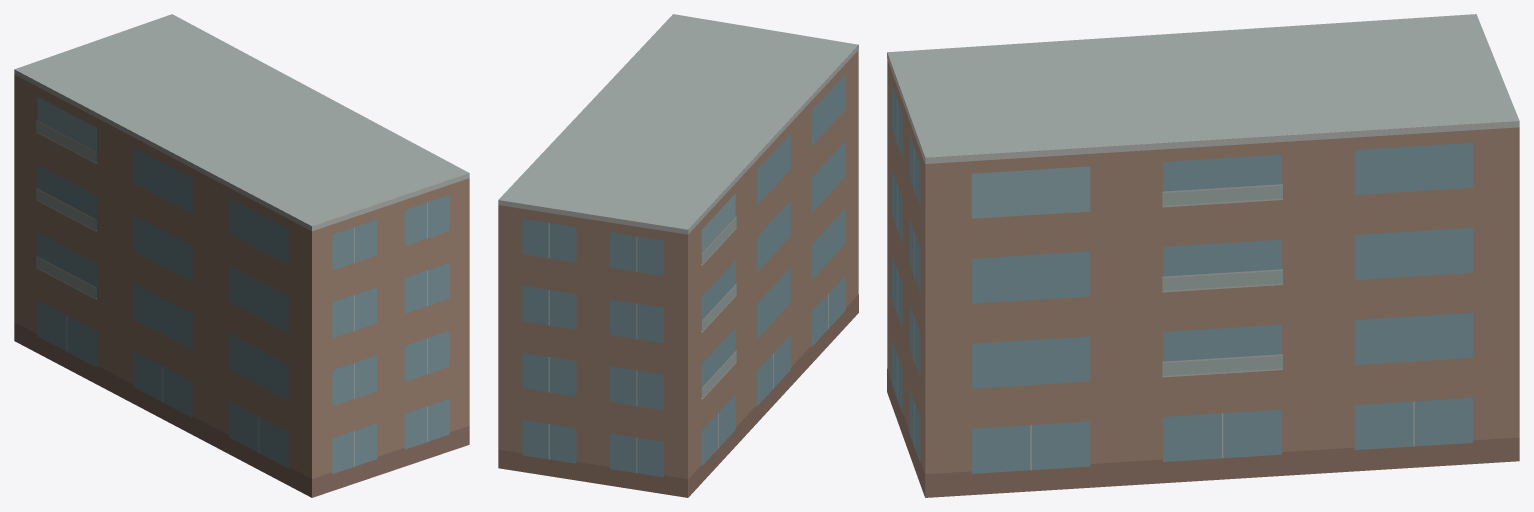
The model's file is survey-upis-32719565.glb.
The picture shows the model from 3 angles, left to right: view 1: azimuth 30°, elevation 25°; view 2: azimuth 150°, elevation 25°; view 3: azimuth 270°, elevation 25°; orthographic projection. The views are drawn at different scales.
Parts seen in each view (by area): view 1: survey-upis-32719565.tmp; view 2: survey-upis-32719565.tmp; view 3: survey-upis-32719565.tmp.
Part boxes in pixels (left/top/right/bottom): survey-upis-32719565.tmp: left=14, top=14, right=469, bottom=497; survey-upis-32719565.tmp: left=498, top=14, right=858, bottom=497; survey-upis-32719565.tmp: left=887, top=14, right=1519, bottom=497.
Size of the model in its own units: 11.98 by 13.2 by 22.26.
